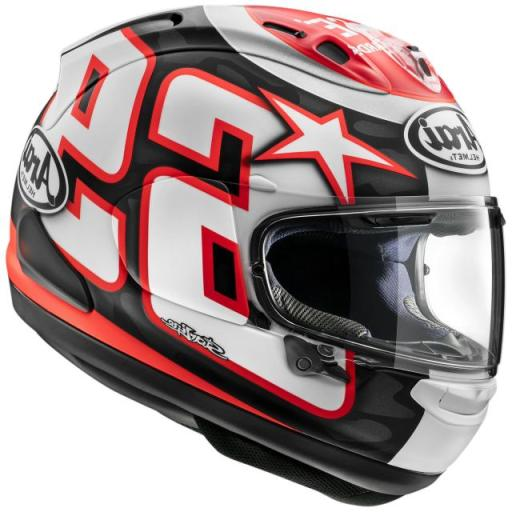Helmet: (8, 7, 503, 504)
